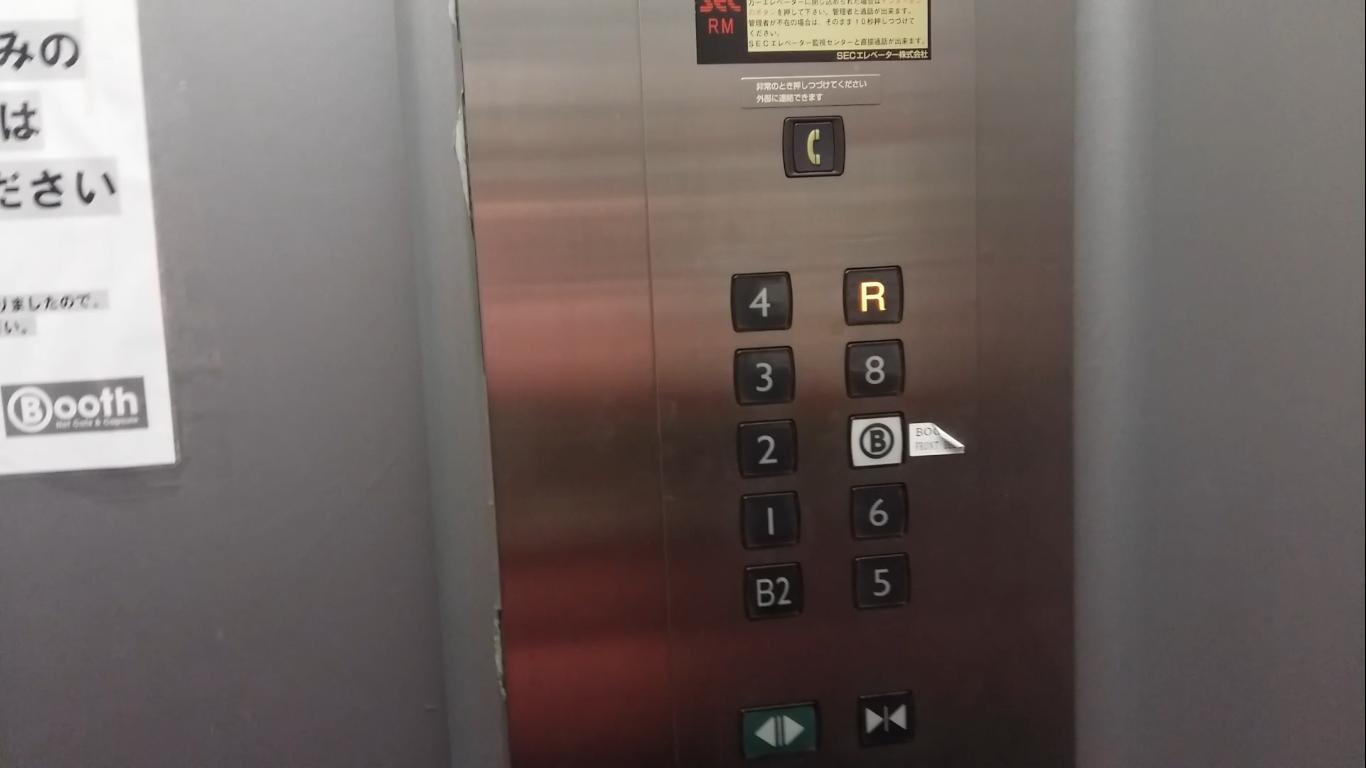1: (739, 490, 803, 549)
2: (735, 419, 799, 481)
3: (731, 344, 797, 408)
4: (729, 270, 794, 333)
5: (852, 552, 913, 609)
6: (848, 481, 910, 541)
8: (844, 337, 907, 398)
B: (848, 411, 908, 470)
B2: (741, 561, 804, 623)
R: (842, 265, 905, 327)
call: (779, 113, 848, 181)
close: (854, 690, 912, 748)
open: (737, 699, 821, 762)
